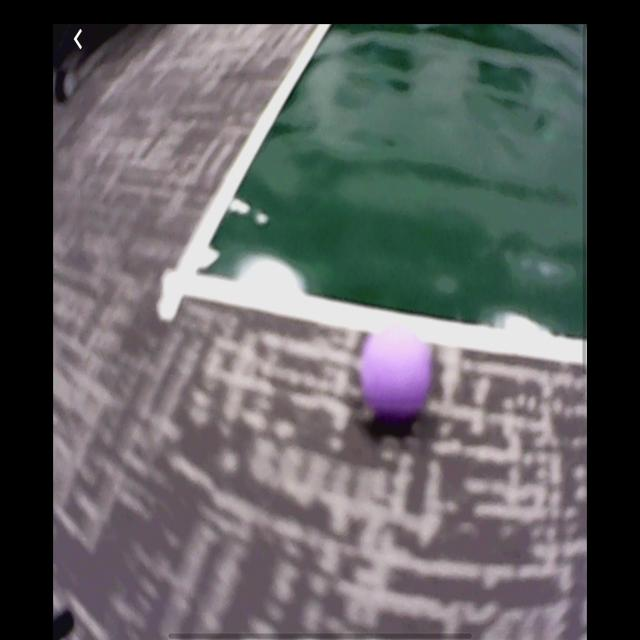ball: (360, 325, 435, 425)
